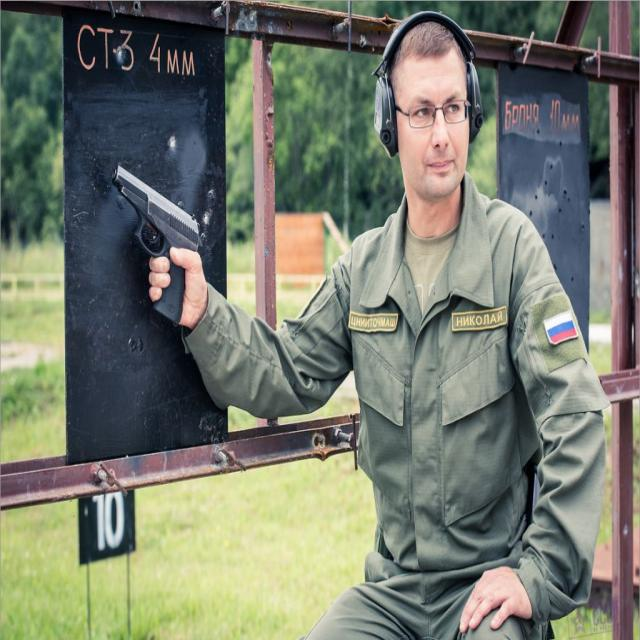pistol: (113, 161, 207, 257)
